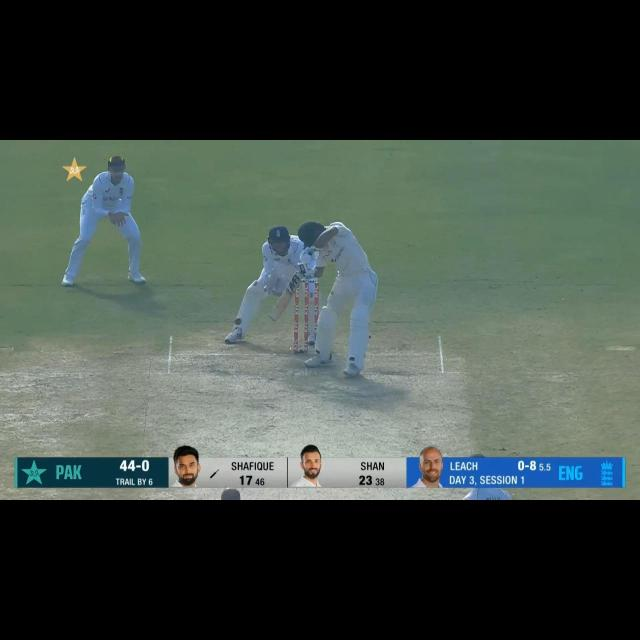bat: (268, 267, 303, 324)
toe: (268, 309, 280, 323)
